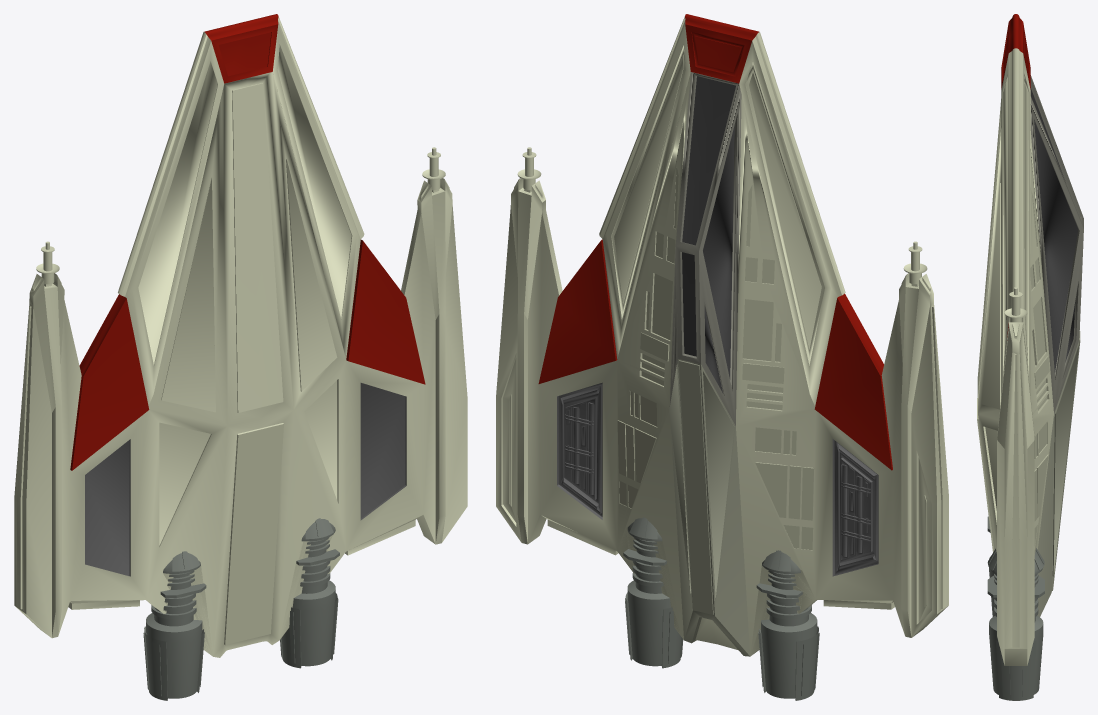
Rendered from Spaceship.fbx.
3 renders of one model, left to right at view 1: azimuth 30°, elevation 25°; view 2: azimuth 150°, elevation 25°; view 3: azimuth 270°, elevation 25°, orthographic. The views are drawn at different scales.
Parts seen in each view (by area): view 1: Spaceship; view 2: Spaceship; view 3: Spaceship.
Boxes of the visible parts, left/top/right/bottom form: Spaceship: left=14, top=14, right=467, bottom=700; Spaceship: left=496, top=14, right=948, bottom=700; Spaceship: left=977, top=14, right=1083, bottom=700.
Size of the model in its own units: 488 by 685 by 105.
